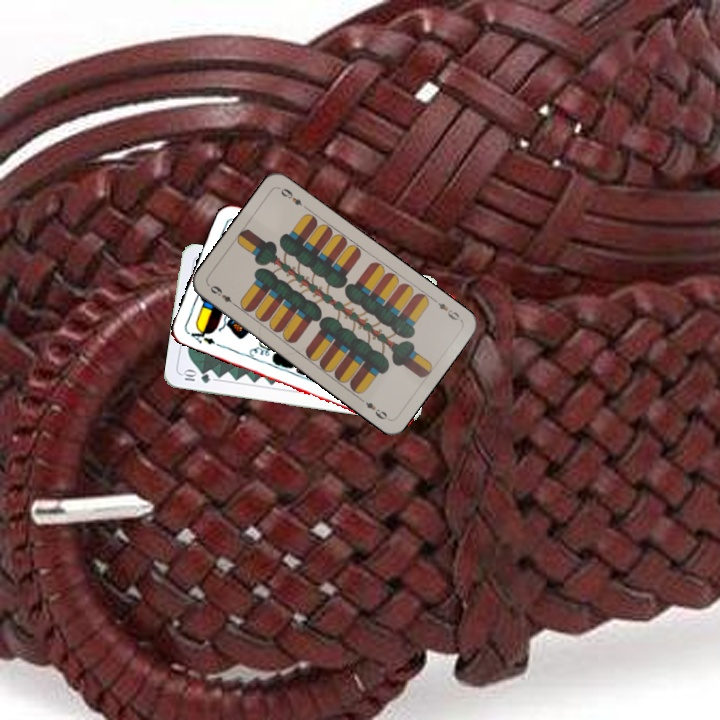E9: (205, 280, 240, 310), (429, 295, 464, 324)
EA: (184, 323, 223, 349)
G10: (180, 367, 213, 386)
